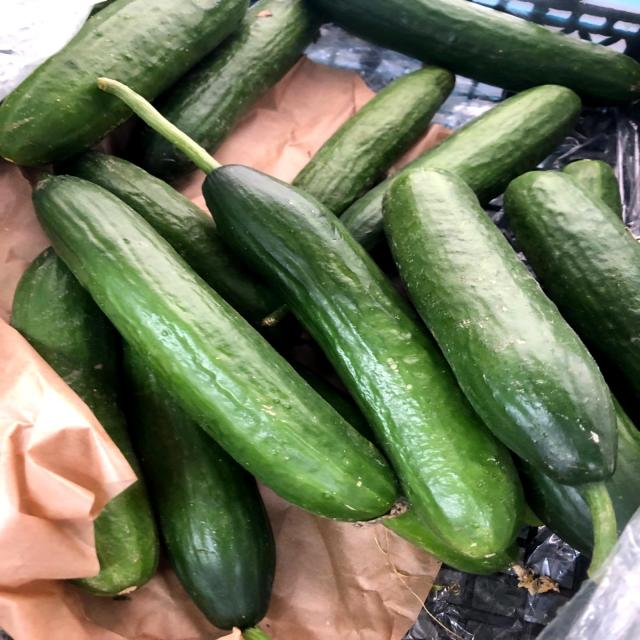cucumber: (91, 68, 536, 565), (19, 169, 418, 525), (364, 151, 640, 483)
